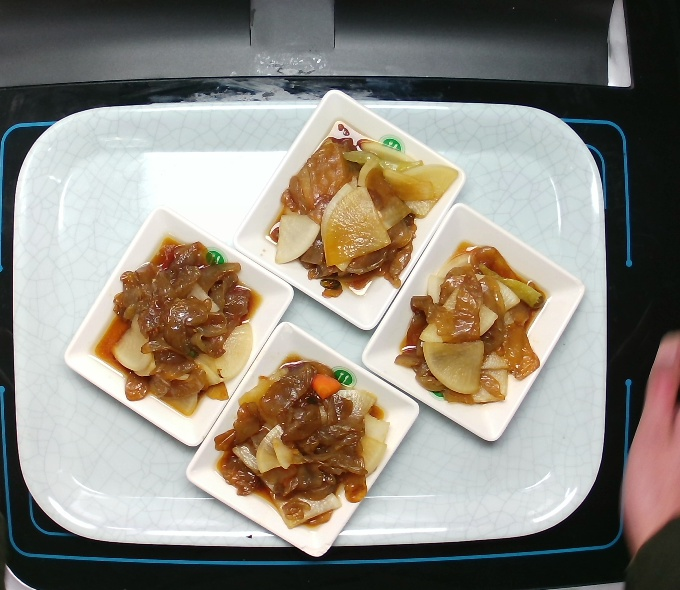wcq-HaiZheTou: (261, 114, 463, 311), (210, 356, 392, 536), (101, 232, 261, 425), (390, 234, 551, 412)
